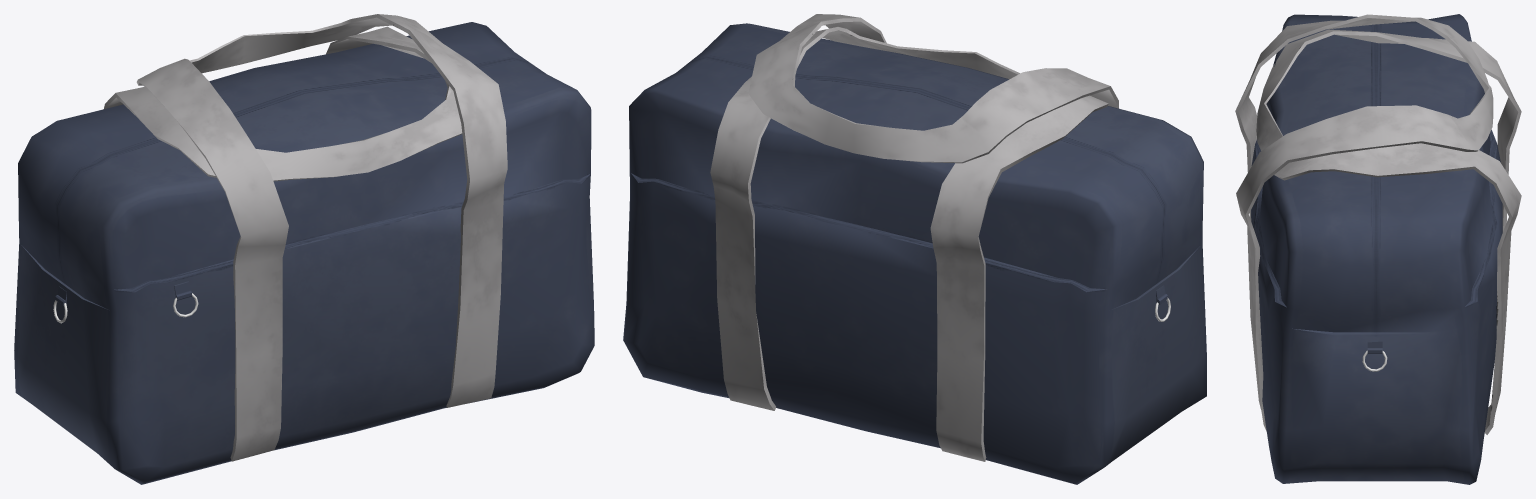
Rendered from SchoolBag.fbx.
3 renders of one model, left to right at view 1: azimuth 30°, elevation 25°; view 2: azimuth 150°, elevation 25°; view 3: azimuth 270°, elevation 25°, orthographic. The views are drawn at different scales.
Visible parts, largest first — view 1: SchoolBag; view 2: SchoolBag; view 3: SchoolBag.
Part boxes in pixels (box(x1,y1,x2,y2)): SchoolBag: box(14, 14, 594, 484); SchoolBag: box(623, 14, 1206, 484); SchoolBag: box(1235, 14, 1521, 484).
Size of the model in its own units: 0.4646 by 0.3107 by 0.247.
